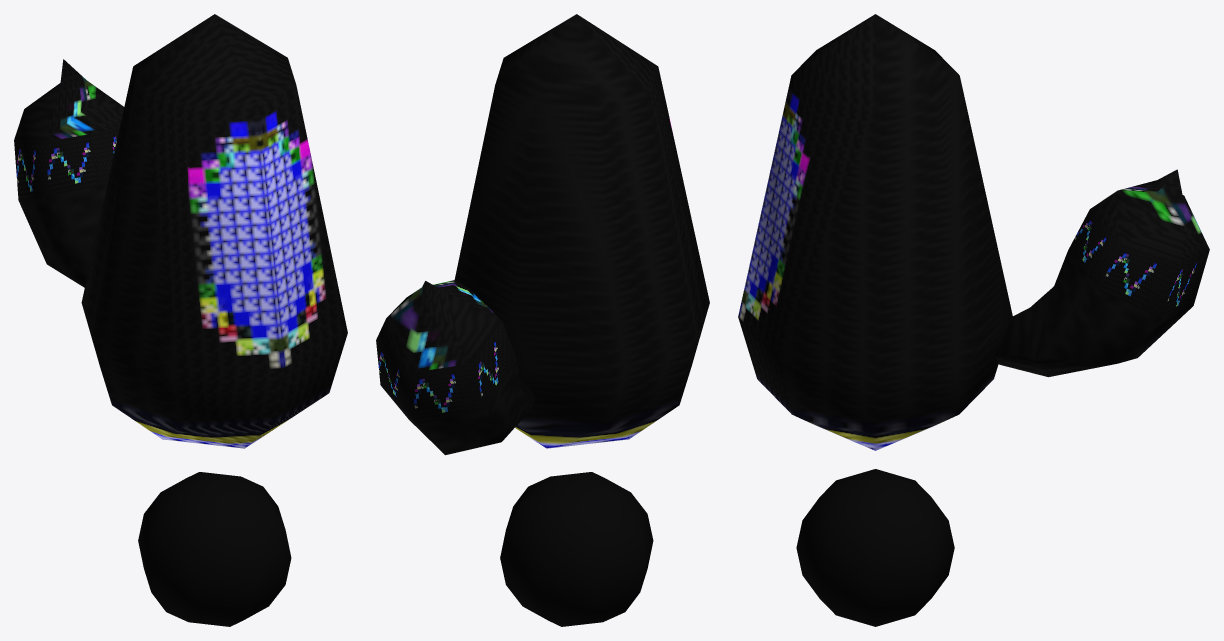
File: cloth_foxluigi_model.glb
3 renders of one model, left to right at view 1: azimuth 30°, elevation 25°; view 2: azimuth 150°, elevation 25°; view 3: azimuth 270°, elevation 25°, orthographic.
Parts seen in each view (by area): view 1: cloth_foxluigi_model; view 2: cloth_foxluigi_model; view 3: cloth_foxluigi_model.
Boxes of the visible parts, x1=… form: cloth_foxluigi_model: x1=14, y1=14, x2=347, y2=626; cloth_foxluigi_model: x1=376, y1=14, x2=709, y2=626; cloth_foxluigi_model: x1=738, y1=14, x2=1209, y2=626.
Size of the model in its own units: 35.53 by 86.34 by 60.96.
Materials: 1 (1 with a texture image).
